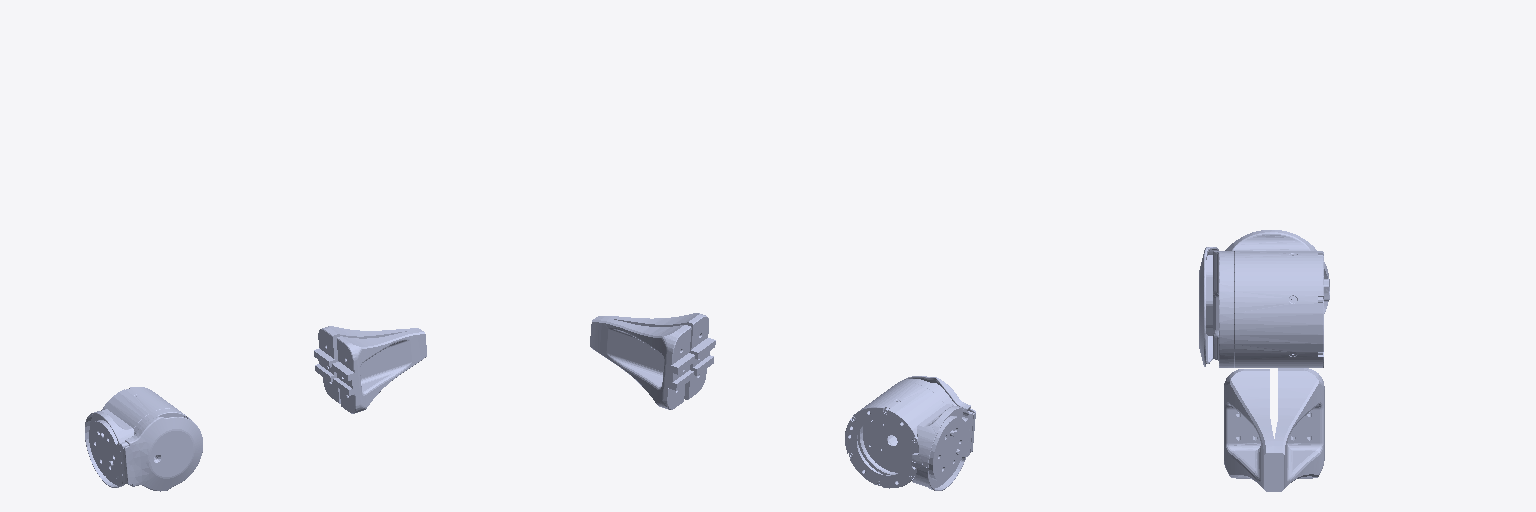
The robot description file, URDF, robot "piper_camera":
<?xml version="1.0"?>
<robot xmlns:xacro="http://www.ros.org/wiki/xacro" name="piper_camera">
    <link name="arm_base">
        <inertial>
        <origin
            xyz="-0.00979274765955341 1.82905827587138E-06 0.0410100126360189"
            rpy="0 0 0" />
        <mass value="0.162548567403693" />
        <inertia
            ixx="0.000226596924525071"
            ixy="-7.33972270153965E-08"
            ixz="2.13249977802622E-06"
            iyy="0.000269444772561524"
            iyz="8.15169009611054E-09"
            izz="0.000222318258878636" />
        </inertial>
        <visual>
        <origin xyz="0 0 0" rpy="0 0 0" />
        <geometry>
            <mesh filename="package://piper_description/meshes/dae/base_link.dae" />
        </geometry>
        <material name="">
            <color rgba="0.792156862745098 0.819607843137255 0.933333333333333 1" />
        </material>
        </visual>
        <collision>
            <origin xyz="0 0 0" rpy="0 0 0" />
            <geometry>
                <mesh filename="package://piper_description/meshes/base_link.STL" />
            </geometry>
        </collision>
    </link>

    <link name="link1">
        <inertial>
        <origin
            xyz="0.00131676031927024 0.000310288842008612 -0.00922874512303437"
            rpy="0 0 0" />
        <mass value="0.0978679932242825" />
        <inertia
            ixx="7.76684558296782E-05"
            ixy="1.09084650459924E-07"
            ixz="-1.9748053243241E-06"
            iyy="9.24967780161547E-05"
            iyz="9.91284646834582E-07"
            izz="8.24589062407807E-05" />
        </inertial>
        <visual>
        <origin xyz="0 0 0" rpy="0 0 0" />
        <geometry>
            <mesh filename="package://piper_description/meshes/dae/link1.dae" />
        </geometry>
        <material name="">
            <color rgba="0.792156862745098 0.819607843137255 0.933333333333333 1" />
        </material>
        </visual>
        <collision>
            <origin xyz="0 0 0" rpy="0 0 1.5708" />
            <geometry>
                <mesh filename="package://piper_description/meshes/link1.STL" />
            </geometry>
        </collision>
    </link>
    <joint name="joint1" type="revolute">
        <origin xyz="0 0 0.123" rpy="0 0 -1.5708" />
        <parent link="arm_base" />
        <child link="link1" />
        <axis xyz="0 0 1" />
        <limit lower="-2.618" upper="2.618" effort="100" velocity="3" />
    </joint>

    <link name="link2">
        <inertial>
        <origin
            xyz="0.148793602378802 -0.00242026983944119 0.00175154638467948"
            rpy="0 0 0" />
        <mass value="0.290888938633388" />
        <inertia
            ixx="0.000148959640166183"
            ixy="-7.37750384371657E-05"
            ixz="-9.68688405196236E-07"
            iyy="0.00172800946632652"
            iyz="-1.09692225564224E-06"
            izz="0.0017754628344594" />
        </inertial>
        <visual>
        <origin xyz="0 0 0" rpy="0 0 0" />
        <geometry>
            <mesh filename="package://piper_description/meshes/dae/link2.dae" />
        </geometry>
        <material name="">
            <color rgba="0.792156862745098 0.819607843137255 0.933333333333333 1" />
        </material>
        </visual>
        <collision>
            <origin xyz="0 0 0" rpy="0 0 0.1" />
            <geometry>
                <mesh filename="package://piper_description/meshes/link2.STL" />
            </geometry>
        </collision>
    </link>
    <joint name="joint2" type="revolute">
        <origin xyz="0 0 0" rpy="1.5708 -0.034907 -1.5708" />
        <parent link="link1" />
        <child link="link2" />
        <axis xyz="0 0 1" />
        <limit lower="0" upper="3.14" effort="100" velocity="3" />
    </joint>

    <link name="link3">
        <inertial>
        <origin
            xyz="-0.0996835215213704 0.0349477226691318 0.000508025815507312"
            rpy="0 0 0" />
        <mass value="0.290847697793211" />
        <inertia
            ixx="0.000107879011637167"
            ixy="2.92669521203626E-05"
            ixz="6.825922326238E-07"
            iyy="0.000214751671792086"
            iyz="-7.78469047878196E-07"
            izz="0.000241923439340319" />
        </inertial>
        <visual>
        <origin xyz="0 0 0" rpy="0 0 0" />
        <geometry>
            <mesh filename="package://piper_description/meshes/dae/link3.dae" />
        </geometry>
        <material name="">
            <color rgba="0.792156862745098 0.819607843137255 0.933333333333333 1" />
        </material>
        </visual>
        <collision>
        <origin xyz="0 0 0" rpy="0 0 -1.75" />
        <geometry>
            <mesh filename="package://piper_description/meshes/link3.STL" />
        </geometry>
        </collision>
    </link>
    <joint name="joint3" type="revolute">
        <origin xyz="0.28358 0.028726 0" rpy="0 0 0.06604341" />
        <parent link="link2" />
        <child link="link3" />
        <axis xyz="0 0 1" />
        <limit lower="-2.697" upper="0" effort="100" velocity="3" />
    </joint>

    <link name="link4">
        <inertial>
        <origin
            xyz="0.000276464622387979 -0.00102803669324875 -0.00472830700561663"
            rpy="0 0 0" />
        <mass value="0.127087348341362" />
        <inertia
            ixx="3.82011730423416E-05"
            ixy="-4.92358350897513E-08"
            ixz="4.89589432973119E-08"
            iyy="4.87048555222578E-05"
            iyz="6.70802942500512E-08"
            izz="4.10592077565559E-05" />
        </inertial>
        <visual>
        <origin xyz="0 0 0" rpy="0 0 0" />
        <geometry>
            <mesh filename="package://piper_description/meshes/dae/link4.dae" />
        </geometry>
        <material name="">
            <color rgba="0.792156862745098 0.819607843137255 0.933333333333333 1" />
        </material>
        </visual>
        <collision>
        <origin xyz="0 0 0" rpy="0 0 0" />
        <geometry>
            <mesh filename="package://piper_description/meshes/link4.STL" />
        </geometry>
        </collision>
    </link>
    <joint name="joint4" type="revolute">
        <origin xyz="-0.24221 0.068514 0" rpy="-1.5708 0 1.3826" />
        <parent link="link3" />
        <child link="link4" />
        <axis xyz="0 0 1" />
        <limit lower="-1.832" upper="1.832" effort="100" velocity="3" />
    </joint>

    <link name="link5">
        <inertial>
        <origin
            xyz="8.82262433516967E-05 0.0566829014808256 -0.00196119720482461"
            rpy="0 0 0" />
        <mass value="0.144711242639457" />
        <inertia
            ixx="4.39644313662493E-05"
            ixy="-3.59259686444846E-08"
            ixz="-1.89747741386183E-08"
            iyy="5.63173920951307E-05"
            iyz="-2.1540716689785E-07"
            izz="4.88713664675268E-05" />
        </inertial>
        <visual>
        <origin xyz="0 0 0" rpy="0 0 0" />
        <geometry>
            <mesh filename="package://piper_description/meshes/dae/link5.dae" />
        </geometry>
        <material name="">
            <color rgba="0.792156862745098 0.819607843137255 0.933333333333333 1" />
        </material>
        </visual>
        <collision>
        <origin xyz="0 0 0" rpy="0 0 -3.14" />
        <geometry>
            <mesh filename="package://piper_description/meshes/link5.STL" />
        </geometry>
        </collision>
    </link>
    <joint name="joint5" type="revolute">
        <origin xyz="0 0 0" rpy="1.5708 0 0" />
        <parent link="link4" />
        <child link="link5" />
        <axis xyz="0 0 1" />
        <limit lower="-1.22" upper="1.22" effort="100" velocity="3" />
    </joint>

    <link name="link6">
        <inertial>
        <origin
            xyz="0.00103120214523473 0.0121761387587524 0.0315480874960164"
            rpy="0 0 0" />
        <mass value="0.195187143240719" />
        <inertia
            ixx="6.43790256535539E-05"
            ixy="-1.2366166157046E-06"
            ixz="1.97664606328472E-07"
            iyy="0.000126146396374301"
            iyz="2.41157078516408E-06"
            izz="0.000154087076816444" />
        </inertial>
        <visual>
        <origin xyz="-0.002 -0.008 0" rpy="-1.57 0 0" />
        <geometry>
            <mesh filename="package://piper_description/meshes/dae/camera_v3.dae"/>
        </geometry>
        <material name="">
            <color rgba="0.792156862745098 0.819607843137255 0.933333333333333 1" />
        </material>
        </visual>
        <collision>
        <origin xyz="-0.002 -0.008 0" rpy="-1.57 0 0" />
        <geometry>
            <mesh filename="package://piper_description/meshes/dae/camera_v3.dae"/>
        </geometry>
        </collision>
    </link>
    <joint name="joint6" type="revolute">
        <origin xyz="0 0.091 0.0014165" rpy="-1.5708 -1.5708 0" />
        <parent link="link5" />
        <child link="link6" />
        <axis xyz="0 0 1" />
        <limit lower="-3.14" upper="3.14" effort="100" velocity="3" />
    </joint>

    <link name="link7">
        <inertial>
        <origin
            xyz="-0.000277778383727112 -0.0467673043650824 -0.00921029491873201"
            rpy="0 0 0" />
        <mass value="0.02648229234527" />
        <inertia
            ixx="9.99787479924589E-06"
            ixy="-1.57548495096104E-07"
            ixz="-2.71342775003487E-08"
            iyy="6.1795212293655E-06"
            iyz="-1.58939803580081E-06"
            izz="1.42102717246564E-05" />
        </inertial>
        <visual>
        <origin xyz="0 0 0" rpy="0 0 0" />
        <geometry>
            <mesh filename="package://piper_description/meshes/dae/link7.dae" />
        </geometry>
        <material name="">
            <color rgba="0.792156862745098 0.819607843137255 0.933333333333333 1" />
        </material>
        </visual>
        <collision>
        <origin xyz="-0.001 0 0.0003" rpy="0 3.14 0" />
        <geometry>
            <mesh filename="package://piper_description/meshes/link7.STL" />
        </geometry>
        </collision>
    </link>
    <joint name="joint7" type="prismatic">
        <origin xyz="0 0 0.13503" rpy="1.5708 0 1.5708" />
        <parent link="link6" />
        <child link="link7" />
        <axis xyz="0 0 -1" />
        <limit lower="0" upper="0.05" effort="10" velocity="1" />
    </joint>

    <link name="link8">
        <inertial>
        <origin
            xyz="0.000277816920932317 0.0467673824063769 -0.00921030054508036"
            rpy="0 0 0" />
        <mass value="0.0264822021416248" />
        <inertia
            ixx="9.99779119357223E-06"
            ixy="-1.57542283433504E-07"
            ixz="2.71367446701359E-08"
            iyy="6.17952441557932E-06"
            iyz="1.58939319453383E-06"
            izz="1.4210192754512E-05" />
        </inertial>
        <visual>
        <origin xyz="0 0 0" rpy="0 0 0" />
        <geometry>
            <mesh filename="package://piper_description/meshes/dae/link8.dae" />
        </geometry>
        <material name="">
            <color rgba="0.792156862745098 0.819607843137255 0.933333333333333 1" />
        </material>
        </visual>
        <collision>
        <origin xyz="-0.001 0 0.0003" rpy="3.14 0 0" />
        <geometry>
            <mesh filename="package://piper_description/meshes/link8.STL" />
        </geometry>
        </collision>
    </link>
    <joint name="joint8" type="prismatic">
        <origin xyz="0 0 0.13503" rpy="-1.5708 0 1.5708" />
        <parent link="link6" />
        <child link="link8" />
        <axis xyz="0 0 1" />
        <limit lower="-0.05" upper="0" effort="10" velocity="1" />
    </joint>


</robot>

--- Render facts (derived) ---
The picture shows the robot from 3 angles, left to right: view 1: azimuth 30°, elevation 25°; view 2: azimuth 150°, elevation 25°; view 3: azimuth 270°, elevation 25°; orthographic projection.
Model piper_camera with 9 links and 8 joints (6 revolute, 2 prismatic), rooted at arm_base, posed all joints at 0.
Visible links, largest first — view 1: link4, link7, link8; view 2: link4, link8, link7; view 3: link4, link8, link7.
Link boxes in pixels (x1=…): link4: x1=85, y1=387, x2=202, y2=491; link7: x1=332, y1=330, x2=426, y2=413; link8: x1=314, y1=326, x2=420, y2=403; link4: x1=845, y1=376, x2=975, y2=490; link8: x1=590, y1=318, x2=694, y2=409; link7: x1=596, y1=313, x2=715, y2=399; link4: x1=1199, y1=230, x2=1329, y2=367; link8: x1=1274, y1=368, x2=1324, y2=491; link7: x1=1224, y1=369, x2=1273, y2=491.
Bounding box of the posed robot: 0.2774 × 0.0786 × 0.2921 m (x, y, z).
3 mesh visuals loaded from 9 distinct referenced files (3 Collada DAE); not drawn: 6 (reference not matched to a file when rendering).